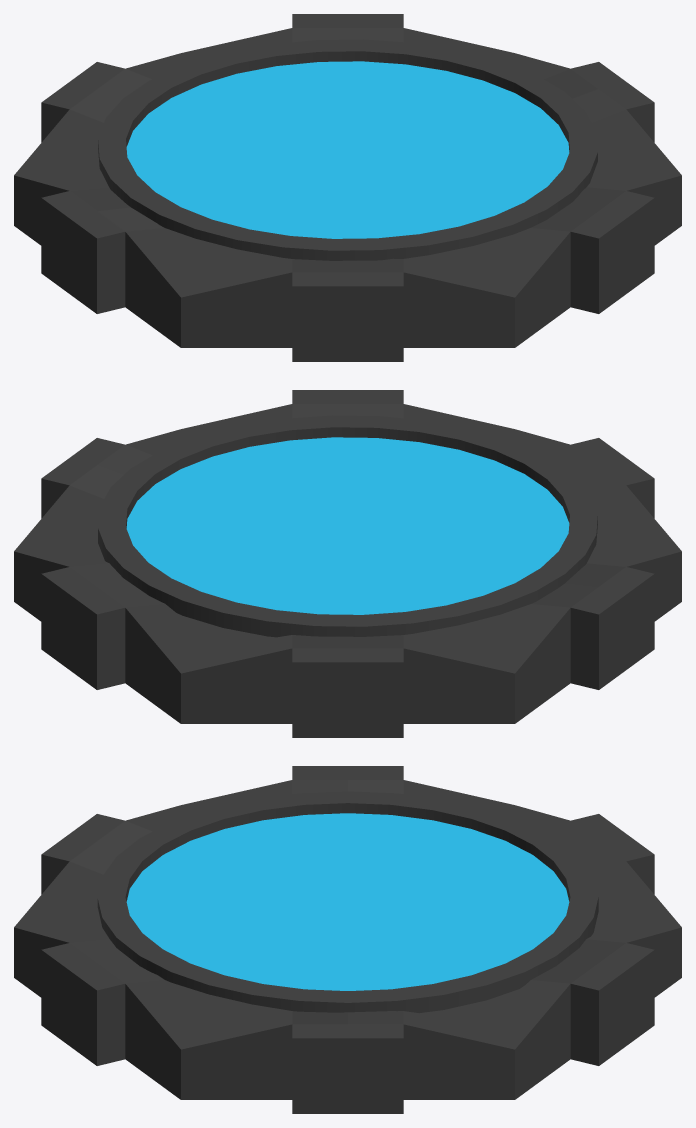
The model's file is Teleporter1.obj.
3 renders of one model, top to bottom at view 1: azimuth 30°, elevation 25°; view 2: azimuth 150°, elevation 25°; view 3: azimuth 270°, elevation 25°, orthographic.
Visible parts, largest first — view 1: Cylinder.001; view 2: Cylinder.001; view 3: Cylinder.001.
Boxes of the visible parts, x1,y1,x2,y2 form: Cylinder.001: [14, 14, 681, 361]; Cylinder.001: [14, 390, 681, 737]; Cylinder.001: [14, 766, 681, 1113].
Bounding box in the file's own units: 1.16 × 0.16 × 1.2.
